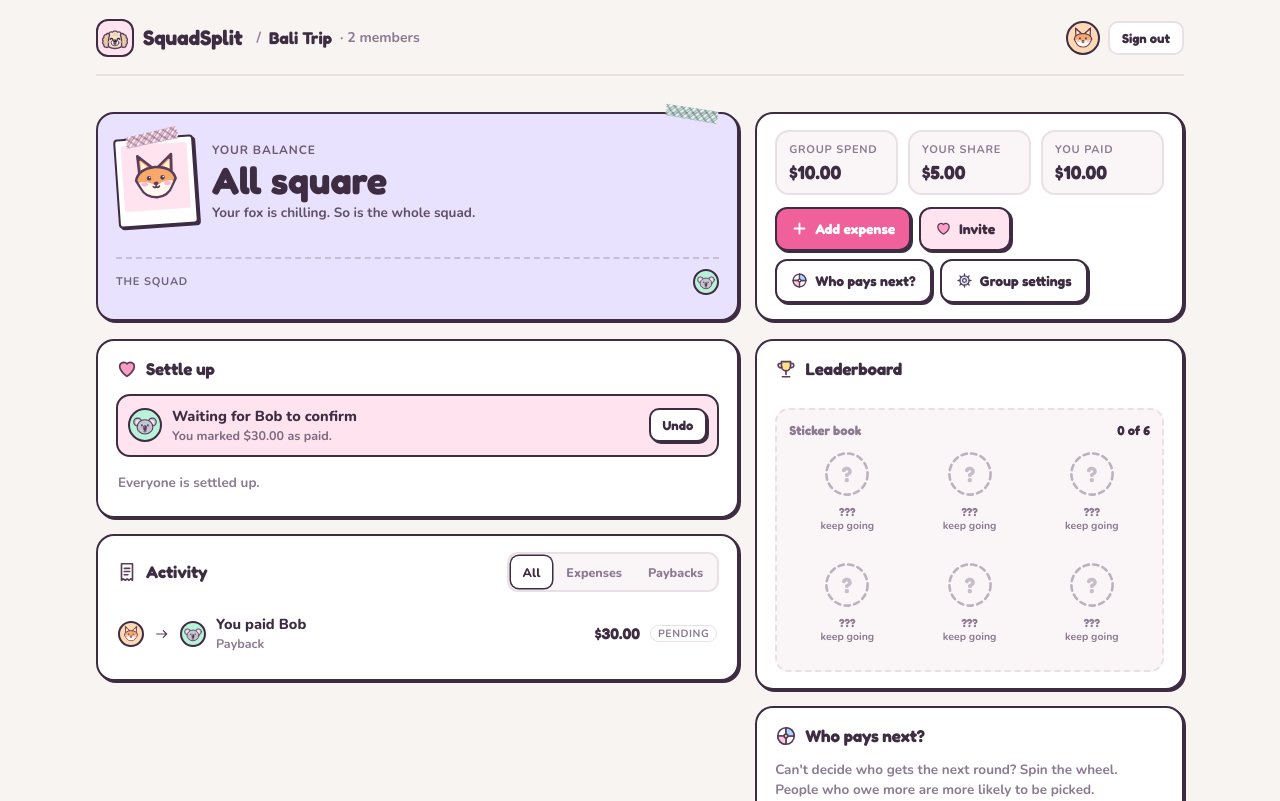
the payer’s settle-up moment › stays quiet when Bob rejects it, or when you undo it
Expected: the text "Waiting for Bob to confirm" is shown, [172,406,357,426]
Click the button "Undo".
click(678, 425)  # box [649,408,707,442]
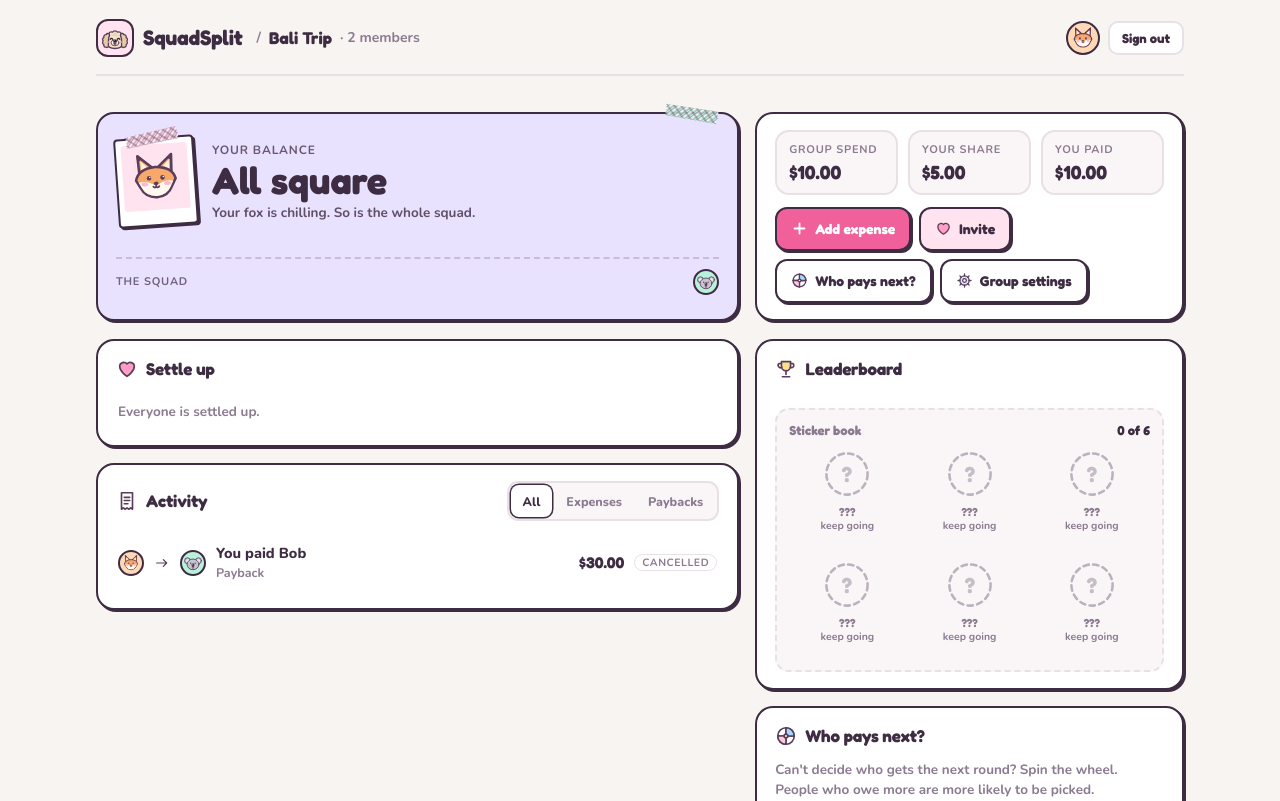
Now the text "Waiting for Bob to confirm" is gone
